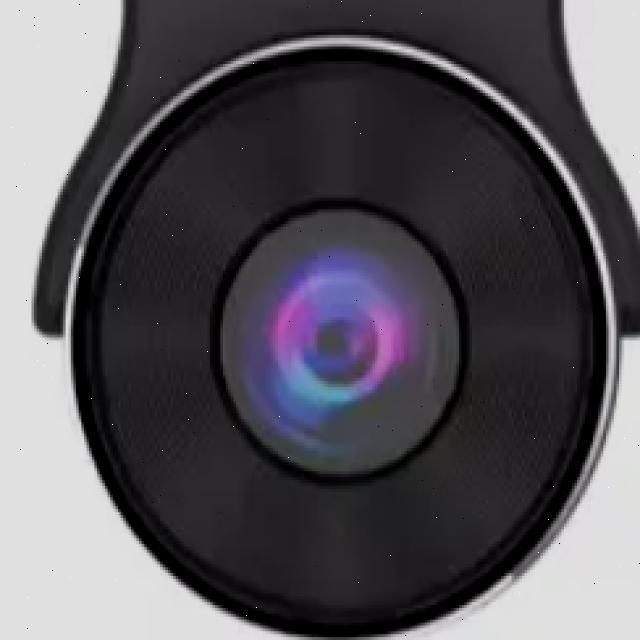camera: (69, 105, 635, 628)
